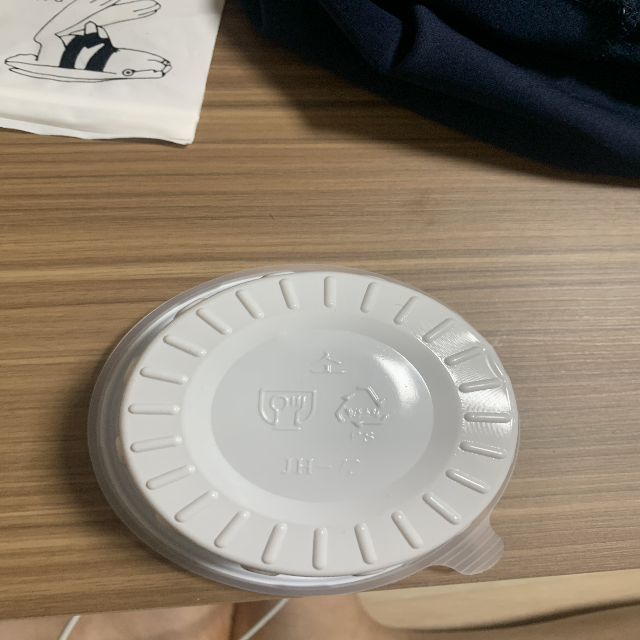ps: (327, 372, 395, 445)
